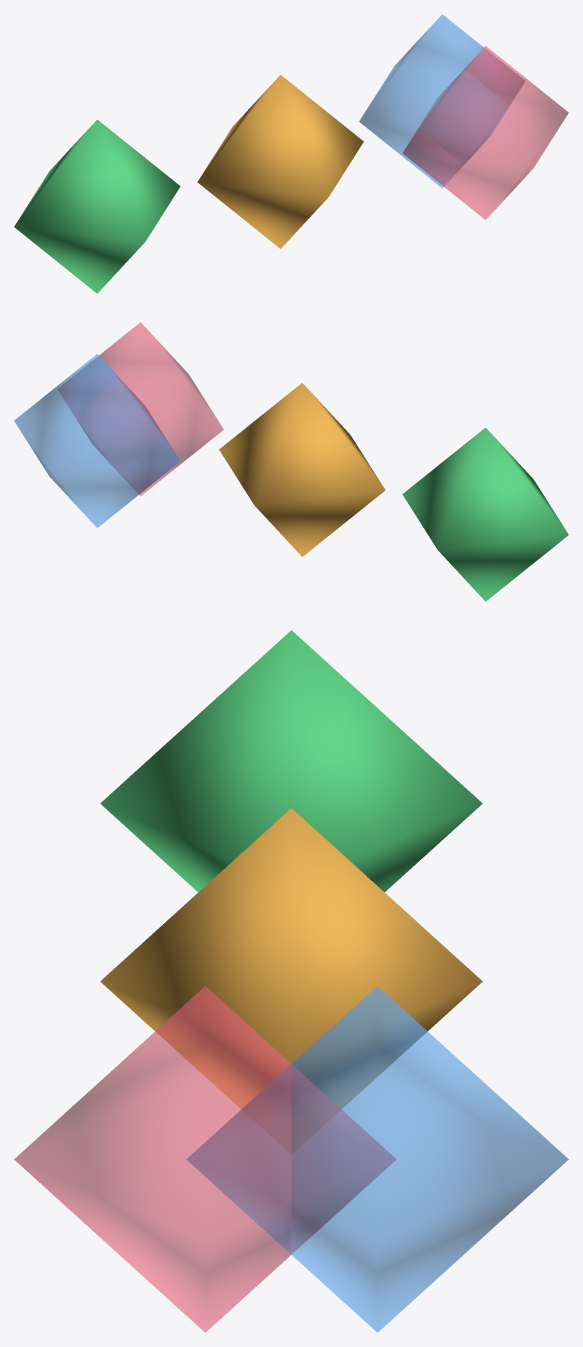
The model's file is alpha_material_test.gltf.
3 renders of one model, top to bottom at view 1: azimuth 30°, elevation 25°; view 2: azimuth 150°, elevation 25°; view 3: azimuth 270°, elevation 25°, orthographic. The views are drawn at different scales.
Parts seen in each view (by area): view 1: OpaqueAlphaIgnored, MaskedVisible, BlendedNear, BlendedFar; view 2: OpaqueAlphaIgnored, MaskedVisible, BlendedFar, BlendedNear; view 3: BlendedFar, BlendedNear, MaskedVisible, OpaqueAlphaIgnored.
Part boxes in pixels (x1,y1,x2,y2): OpaqueAlphaIgnored: [14, 119, 180, 293]; MaskedVisible: [197, 75, 363, 248]; BlendedNear: [402, 46, 568, 219]; BlendedFar: [359, 14, 524, 187]; OpaqueAlphaIgnored: [402, 427, 568, 601]; MaskedVisible: [219, 383, 385, 556]; BlendedFar: [14, 354, 180, 527]; BlendedNear: [58, 322, 223, 495]; BlendedFar: [186, 986, 568, 1332]; BlendedNear: [14, 986, 396, 1332]; MaskedVisible: [100, 808, 482, 1108]; OpaqueAlphaIgnored: [100, 630, 482, 892].
Bounding box in the file's own units: 6.4 × 2 × 2.9.
